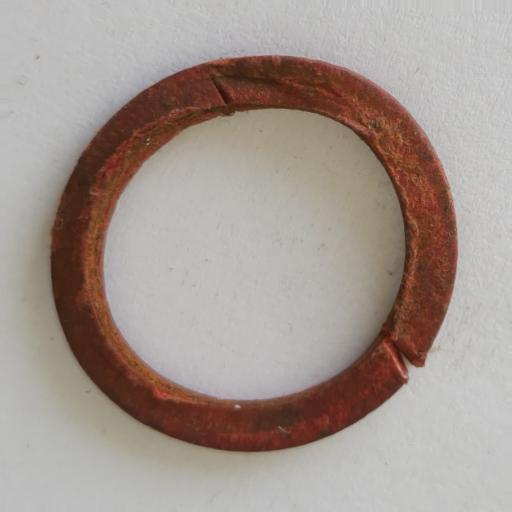defect: (384, 337, 424, 381), (208, 71, 235, 109)
